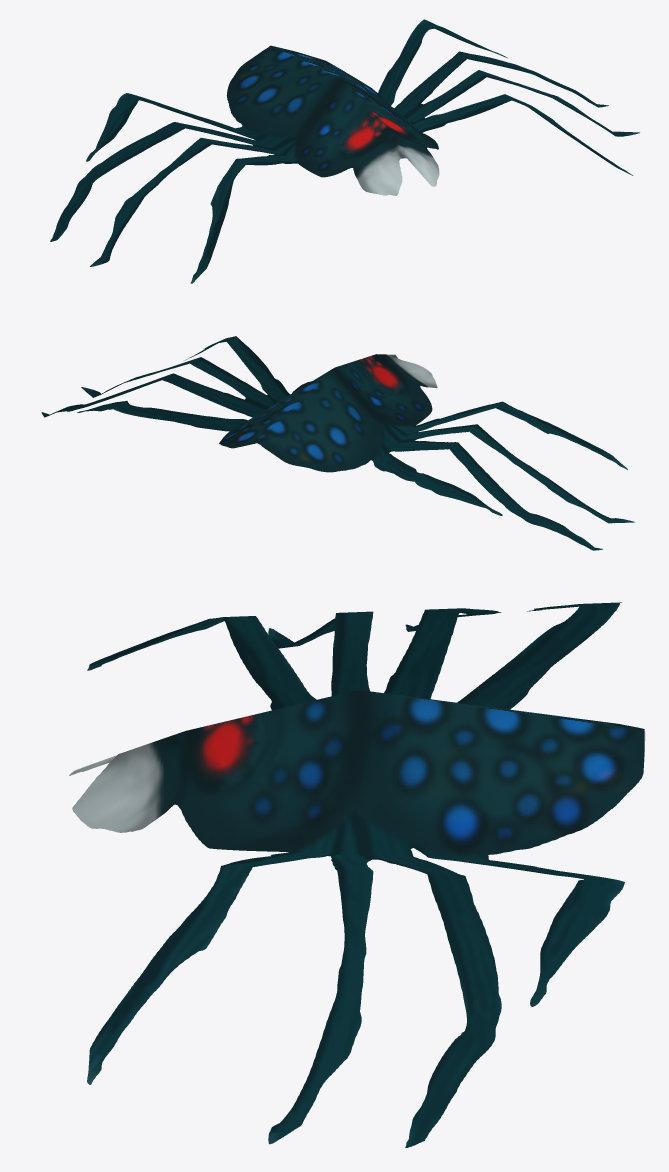
The model's file is SpiderBlue.fbx.
The picture shows the model from 3 angles, top to bottom: view 1: azimuth 30°, elevation 25°; view 2: azimuth 150°, elevation 25°; view 3: azimuth 270°, elevation 25°; orthographic projection. The views are drawn at different scales.
Parts seen in each view (by area): view 1: BlueSpider; view 2: BlueSpider; view 3: BlueSpider.
Part boxes in pixels (x1,y1,x2,y2): BlueSpider: (50, 19, 639, 283); BlueSpider: (41, 336, 634, 550); BlueSpider: (69, 602, 645, 1147).
Size of the model in its own units: 3.16 by 0.5304 by 1.57.
Materials: 1 (1 with a texture image).
